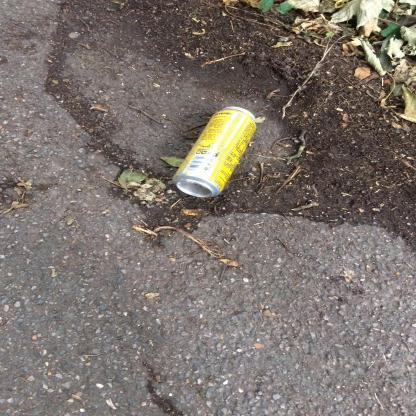metal: (174, 107, 259, 199)
